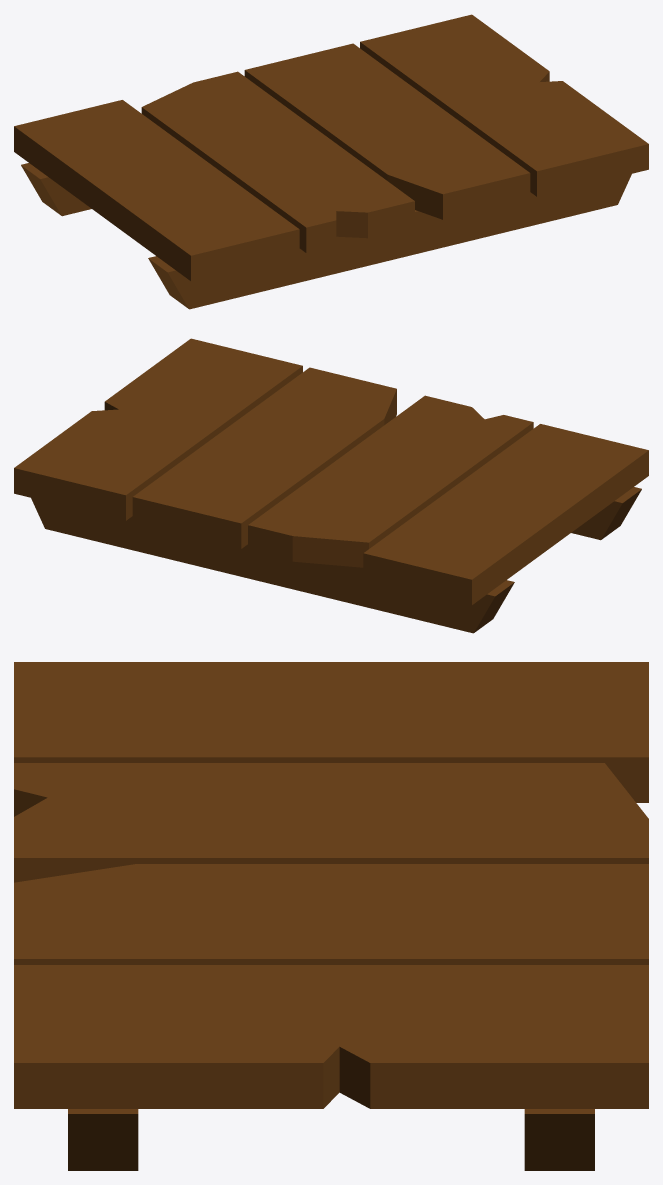
Rendered from FlatTable.fbx.
3 views of the same model, one above another, from view 1: azimuth 30°, elevation 25°; view 2: azimuth 150°, elevation 25°; view 3: azimuth 270°, elevation 25° (orthographic). The views are drawn at different scales.
Visible parts, largest first — view 1: FlatTable; view 2: FlatTable; view 3: FlatTable.
Boxes of the visible parts, x1,y1,x2,y2 form: FlatTable: (14,14,648,309); FlatTable: (14,338,648,633); FlatTable: (14,662,648,1170).
Size of the model in its own units: 136 by 18.65 by 88.03.
